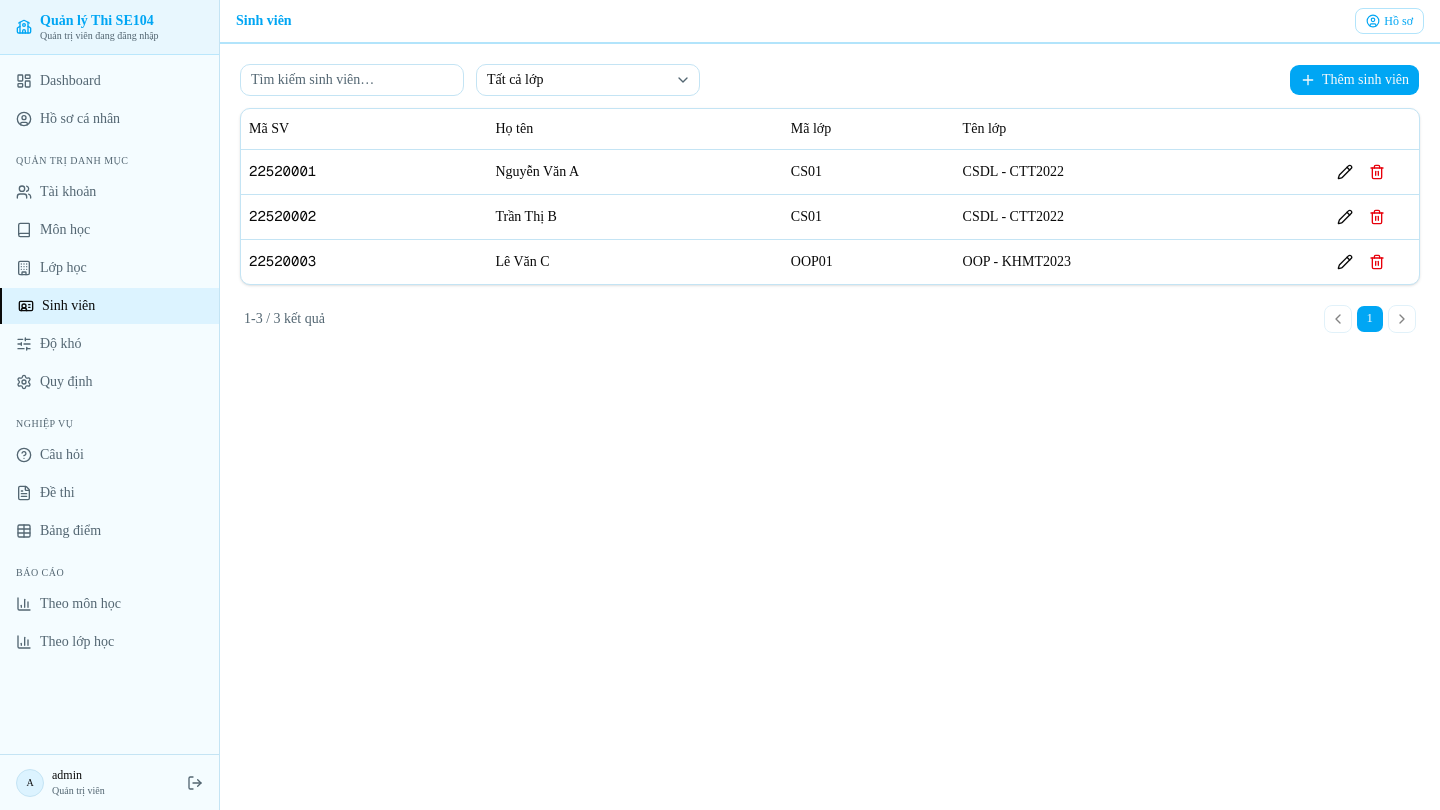
Test: StudentsPage › admin can delete via confirm modal
Expected: the text "22520001" is shown, [249,162,316,180]
Step 1. Click the button named "Xoá" in the row of "22520001" → coordinates (1377, 172), box [1363,158,1391,186]
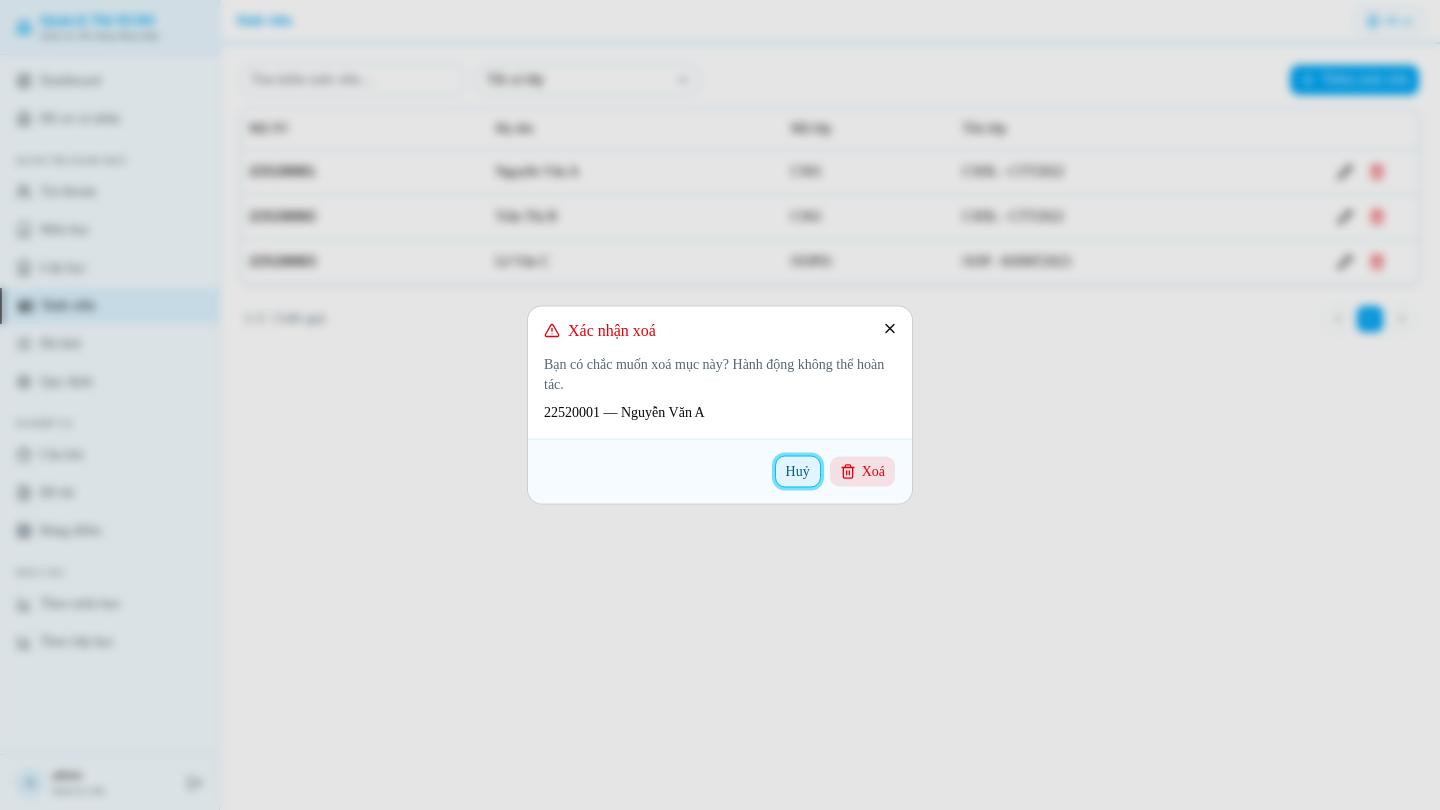
Step 2. Click the button "Xoá" → coordinates (862, 472), box [829,456,896,488]
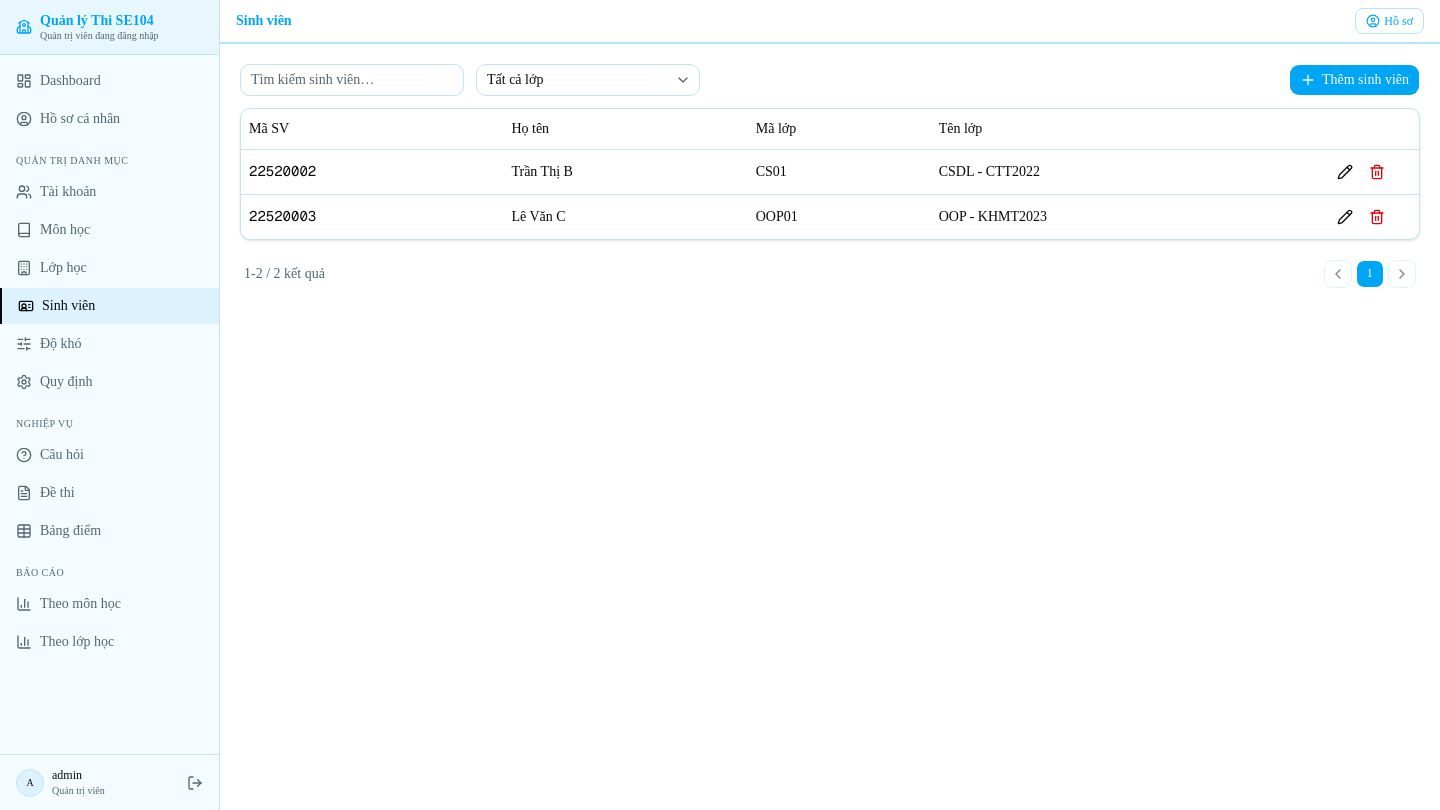
Now the text "22520001" is gone
